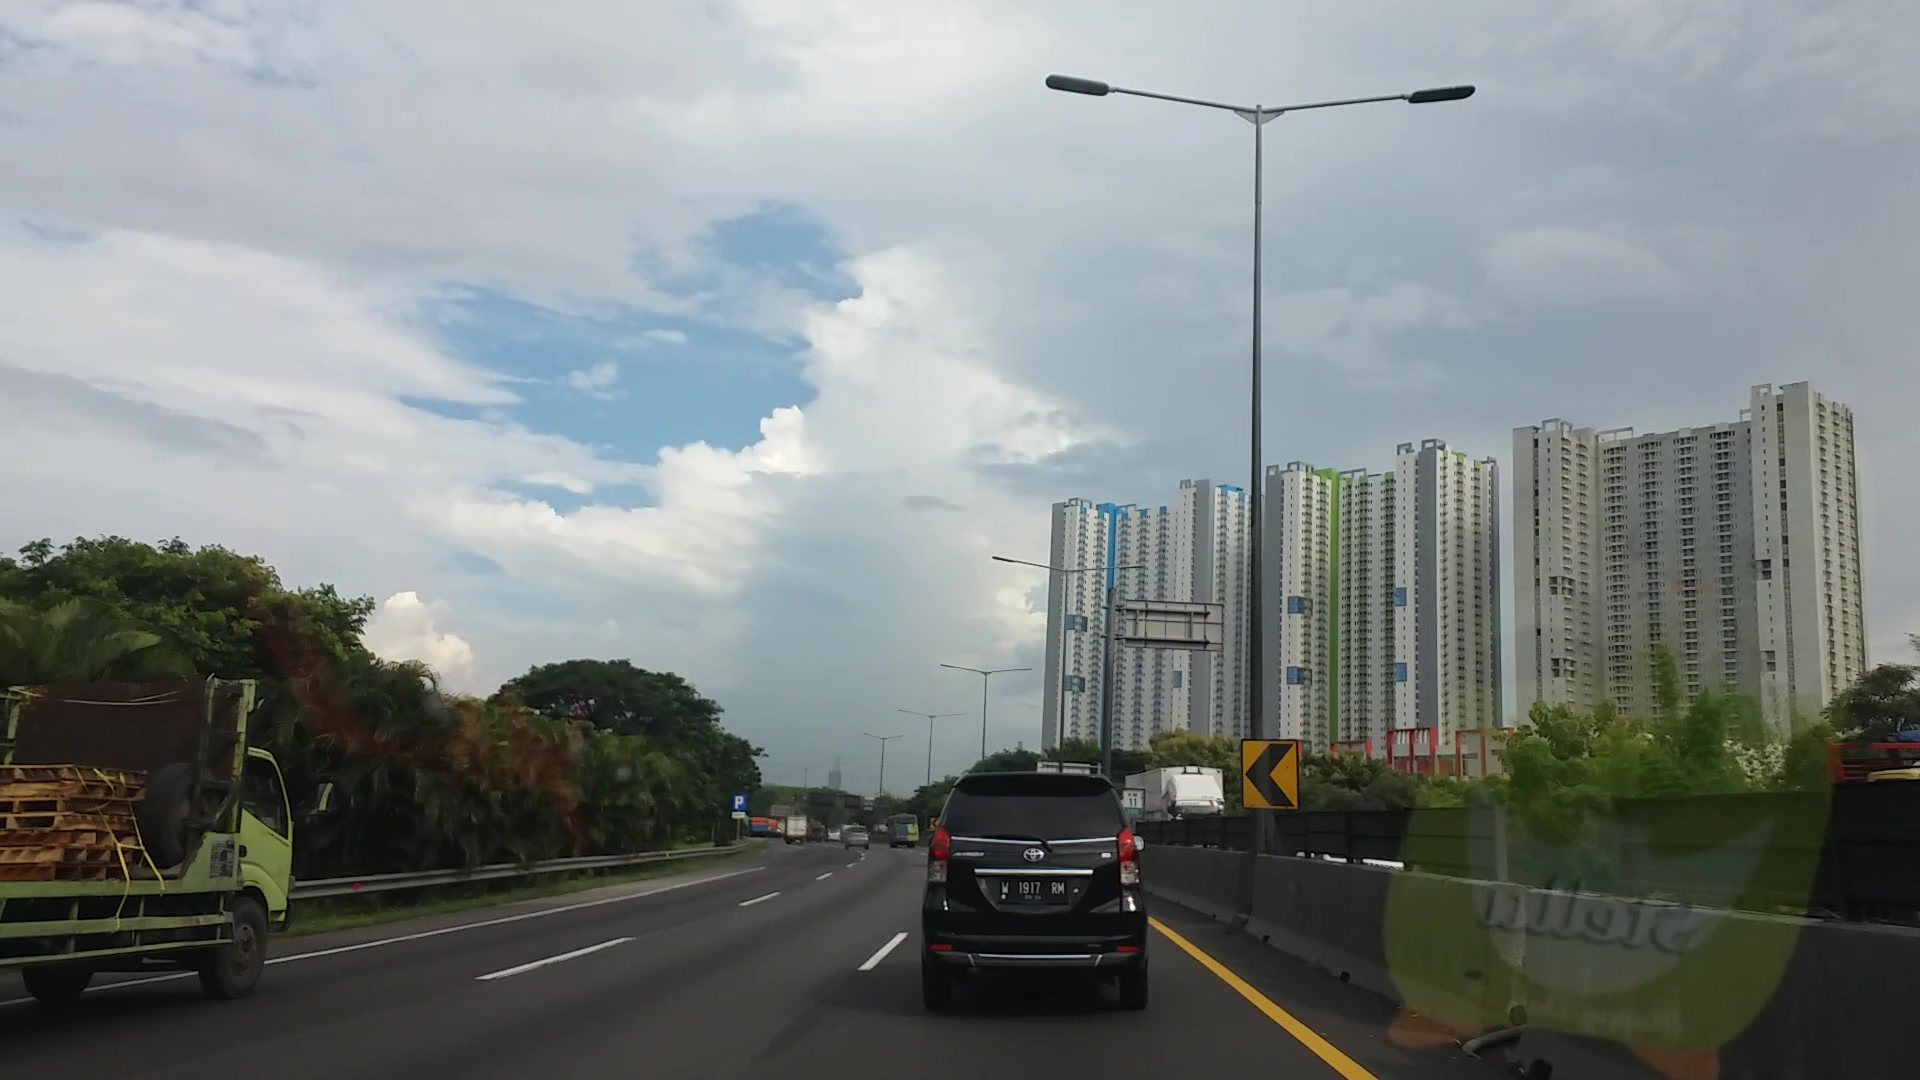plate_positive: (997, 877, 1065, 903)
